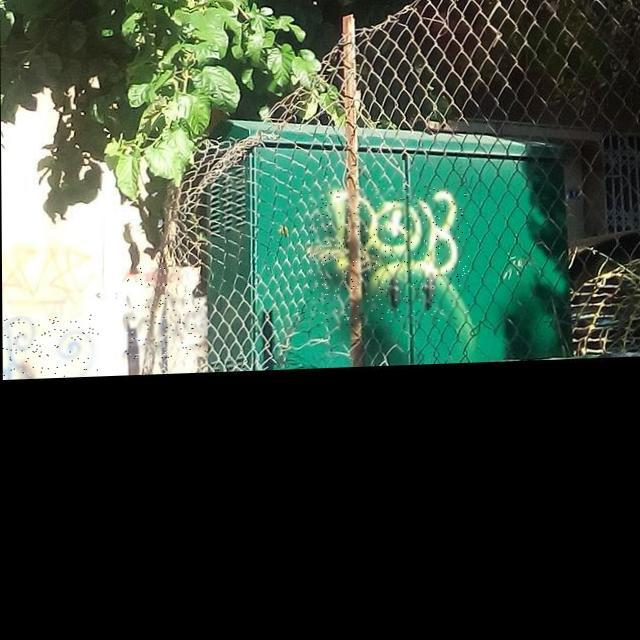-: (309, 188, 469, 330), (2, 315, 98, 379), (124, 295, 207, 360), (126, 268, 182, 288)
